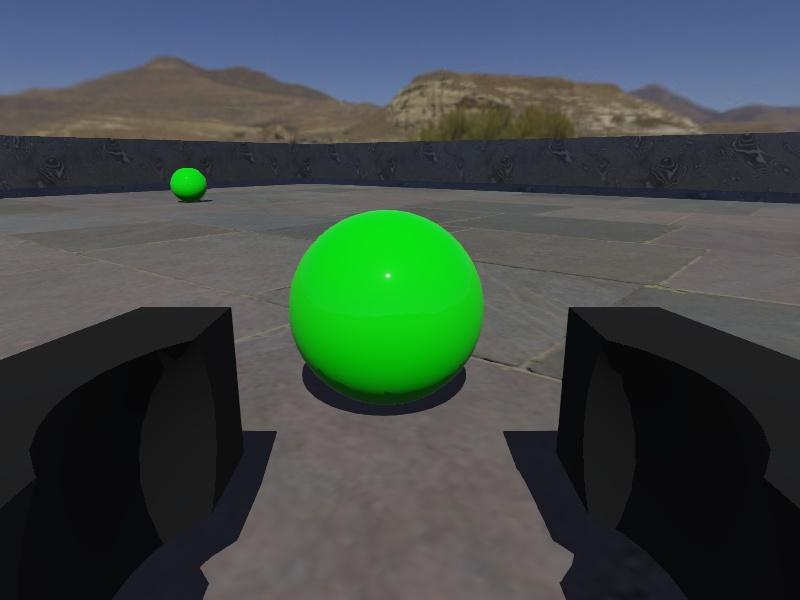green ball: (288, 208, 485, 405), (168, 165, 208, 203)
